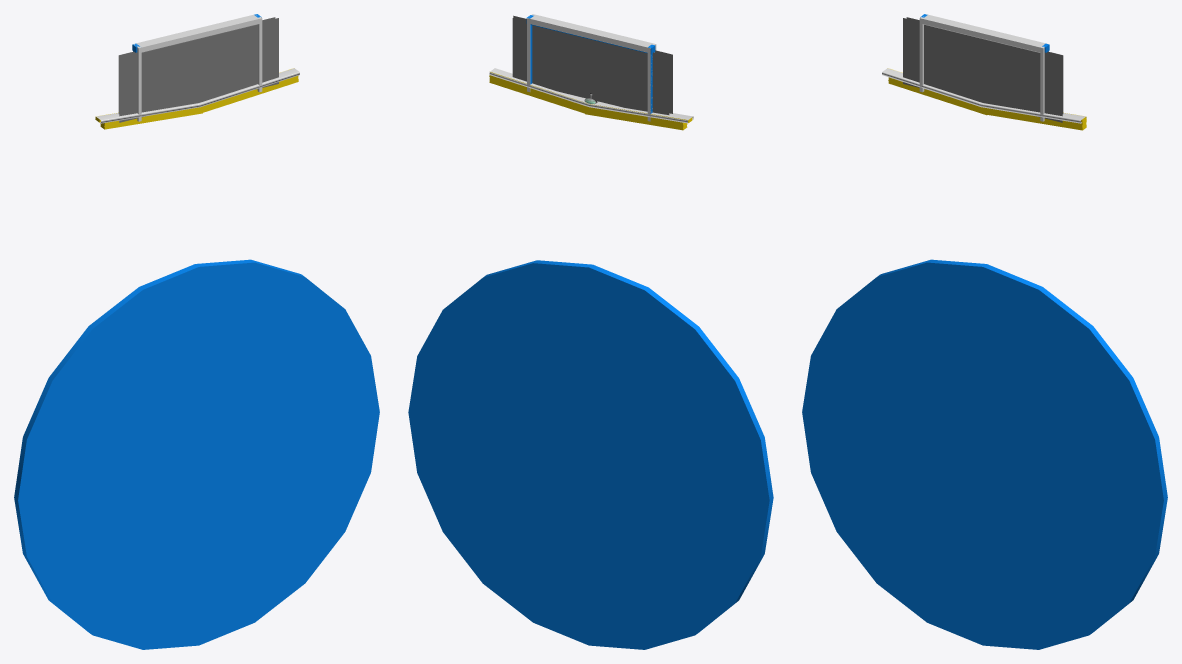
Rendered from BaseAndPlayer.fbx.
The picture shows the model from 3 angles, left to right: view 1: azimuth 30°, elevation 25°; view 2: azimuth 150°, elevation 25°; view 3: azimuth 330°, elevation 25°; orthographic projection.
Visible parts, largest first — view 1: PlayerGravityController, Background, Top, Floor; view 2: PlayerGravityController, RaycastPlane, Top, Floor; view 3: PlayerGravityController, Background, Top, Floor.
Part boxes in pixels (left/top/right/bottom): PlayerGravityController: left=14, top=259, right=379, bottom=649; Background: left=119, top=18, right=278, bottom=122; Top: left=136, top=14, right=259, bottom=52; Floor: left=95, top=68, right=299, bottom=123; PlayerGravityController: left=408, top=260, right=773, bottom=649; RaycastPlane: left=512, top=18, right=669, bottom=114; Top: left=530, top=15, right=652, bottom=52; Floor: left=489, top=68, right=693, bottom=123; PlayerGravityController: left=802, top=259, right=1167, bottom=649; Background: left=903, top=18, right=1062, bottom=122; Top: left=922, top=14, right=1045, bottom=52; Floor: left=882, top=68, right=1086, bottom=123.
Bounding box in the file's own units: 60 × 97.21 × 1.64.
